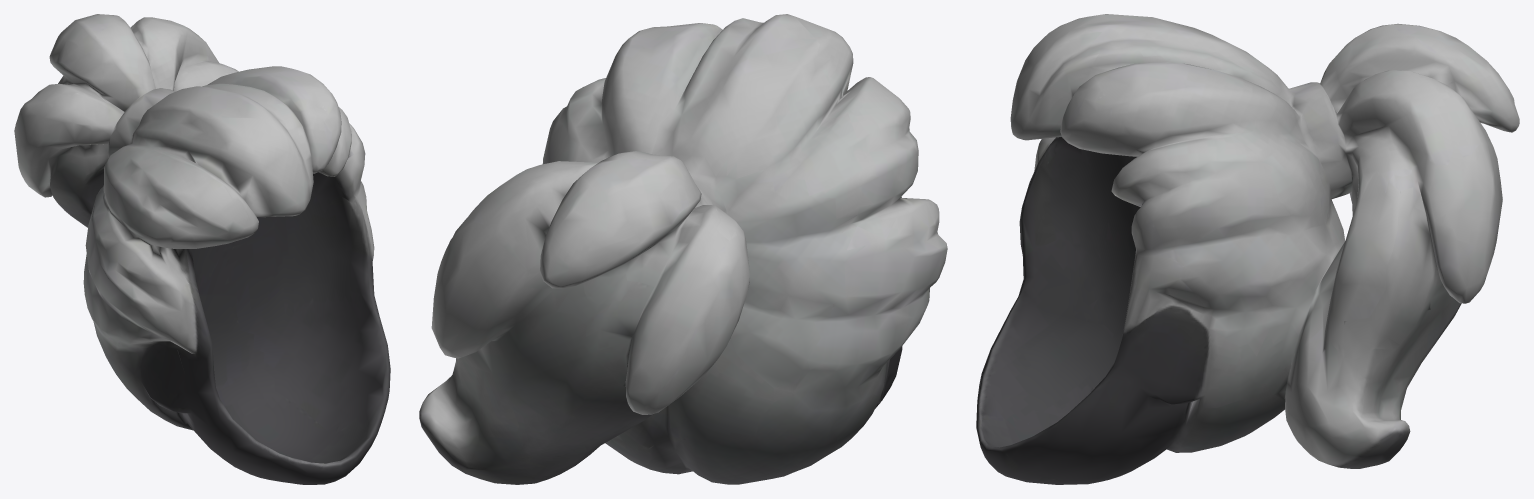
File: hair-buns.glb
The picture shows the model from 3 angles, left to right: view 1: azimuth 30°, elevation 25°; view 2: azimuth 150°, elevation 25°; view 3: azimuth 270°, elevation 25°; orthographic projection. The views are drawn at different scales.
Parts seen in each view (by area): view 1: hair-buns; view 2: hair-buns; view 3: hair-buns.
Boxes of the visible parts, x1,y1,x2,y2 form: hair-buns: [14, 14, 390, 484]; hair-buns: [419, 14, 947, 484]; hair-buns: [976, 14, 1519, 484].
Bounding box in the file's own units: 0.7578 × 0.8794 × 1.
1 material, 1 textured.
